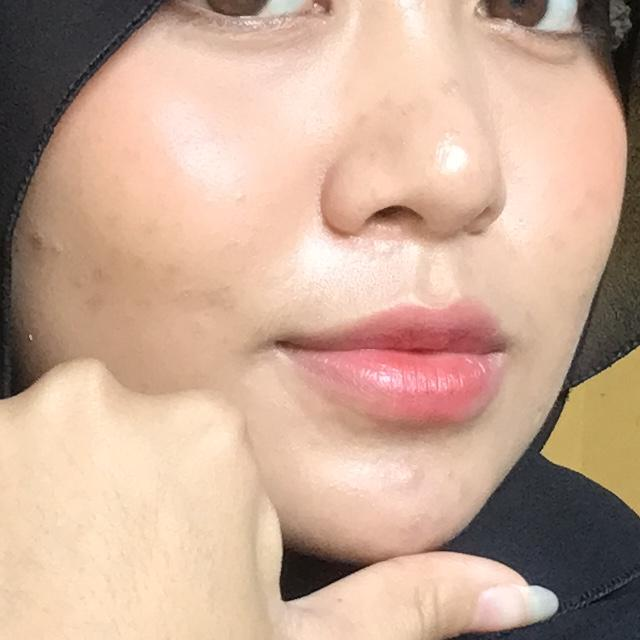telpon: (0, 106, 590, 640)
